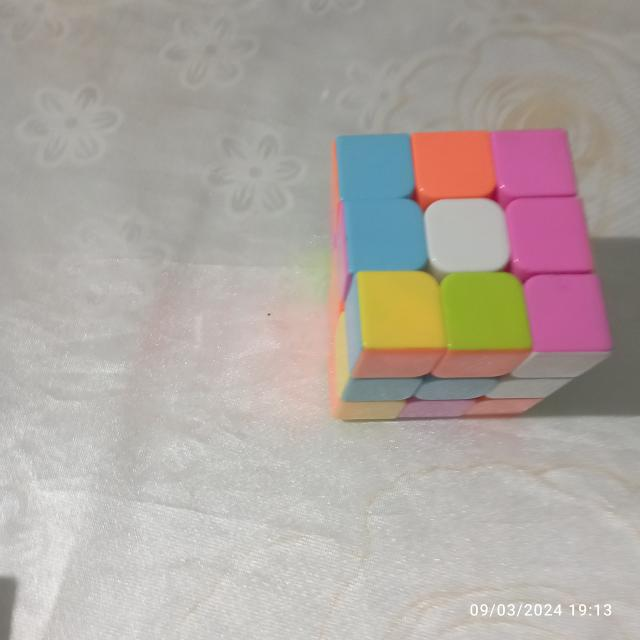Rub: (323, 129, 614, 425)
